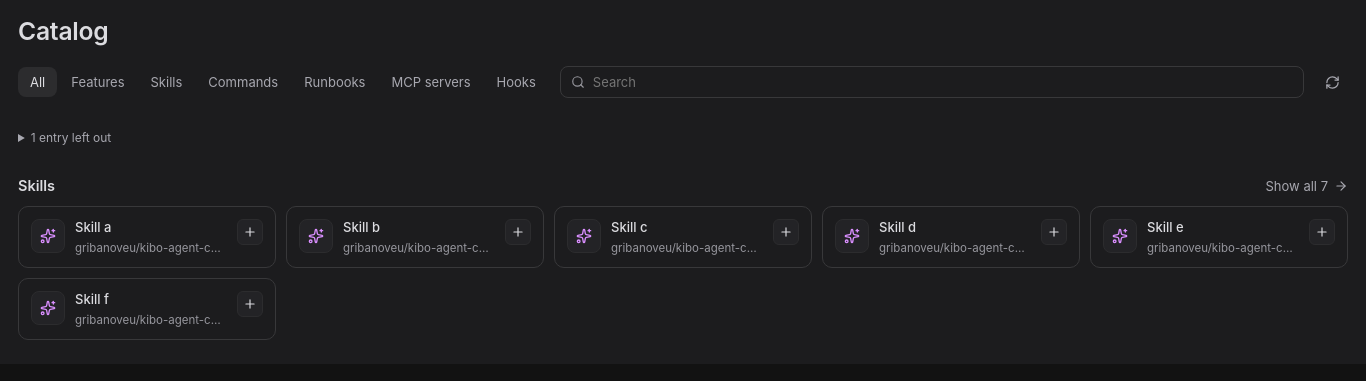
Test: the catalog page › All shows a few of a long kind, and Show all opens its tab
This screenshot has width=1366, height=381.
Expected: the heading "Skill a" is shown, [75,219,111,235]
Expected: the heading "Skill f" is shown, [75,291,109,307]
Click the button "Show all 7".
click(1307, 186)  # box [1266,178,1348,194]
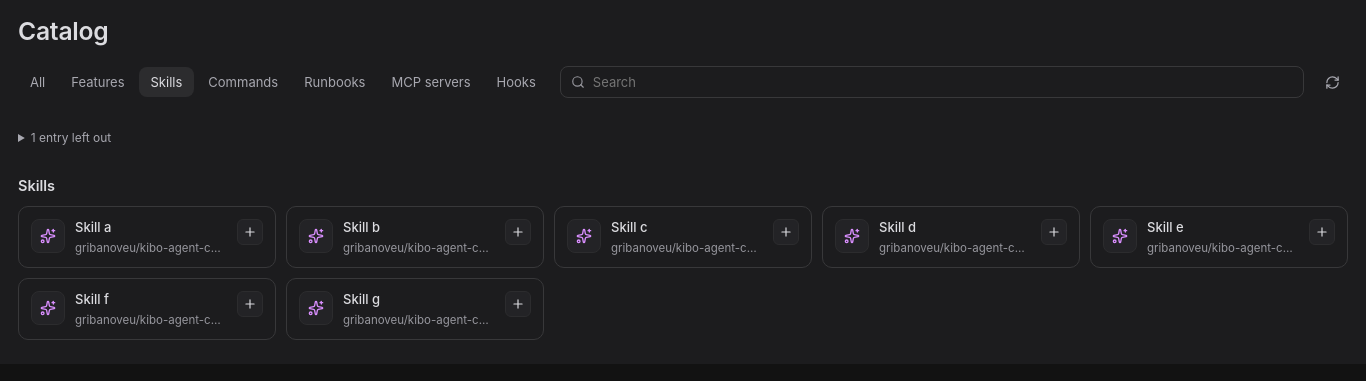
Result: the heading "Skill g" is shown at [343,291,380,307]
Result: the button "Show all" is gone
